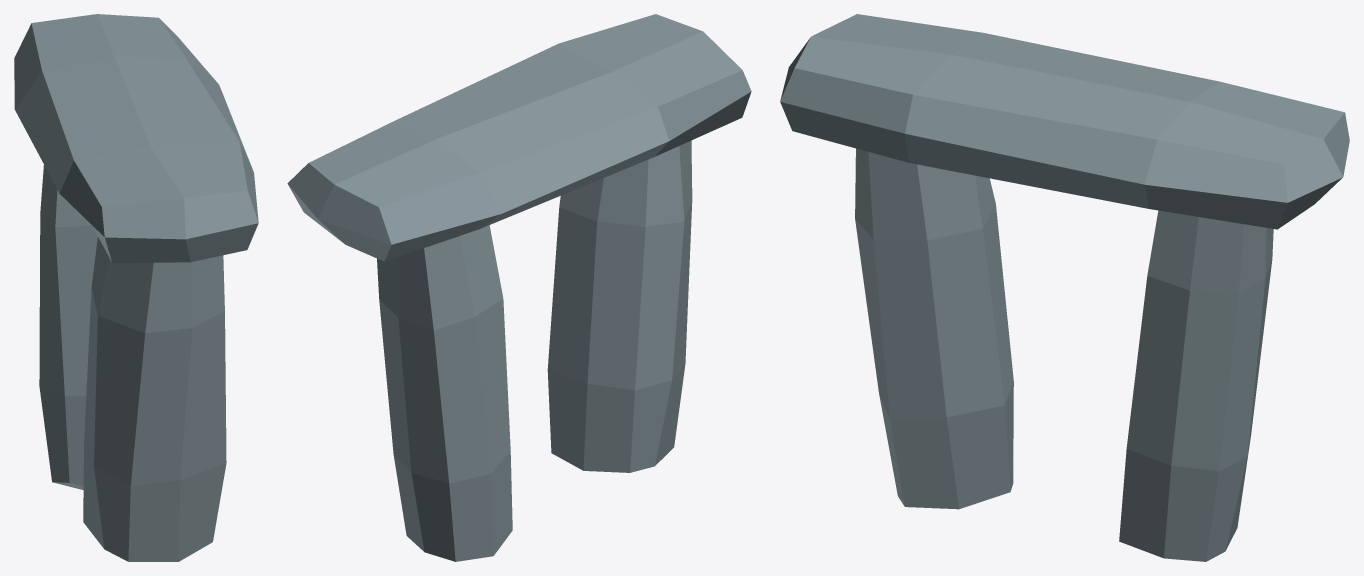
File: Stonehenge_P3.obj
The picture shows the model from 3 angles, left to right: view 1: azimuth 30°, elevation 25°; view 2: azimuth 150°, elevation 25°; view 3: azimuth 270°, elevation 25°; orthographic projection. The views are drawn at different scales.
Parts seen in each view (by area): view 1: Cube.006_Cube.007, Cube.001_Cube.019, Cube.002_Cube.020; view 2: Cube.006_Cube.007, Cube.001_Cube.019, Cube.002_Cube.020; view 3: Cube.006_Cube.007, Cube.001_Cube.019, Cube.002_Cube.020.
Boxes of the visible parts, <box> form: Cube.006_Cube.007: <box>14,14,258,262</box>; Cube.001_Cube.019: <box>83,237,226,561</box>; Cube.002_Cube.020: <box>39,165,97,489</box>; Cube.006_Cube.007: <box>287,14,751,261</box>; Cube.001_Cube.019: <box>547,140,692,472</box>; Cube.002_Cube.020: <box>377,225,512,561</box>; Cube.006_Cube.007: <box>780,14,1349,229</box>; Cube.001_Cube.019: <box>855,148,1013,509</box>; Cube.002_Cube.020: <box>1119,210,1273,561</box>.
Size of the model in its own units: 46.04 by 69.82 by 75.17.
1 material, 1 textured.
